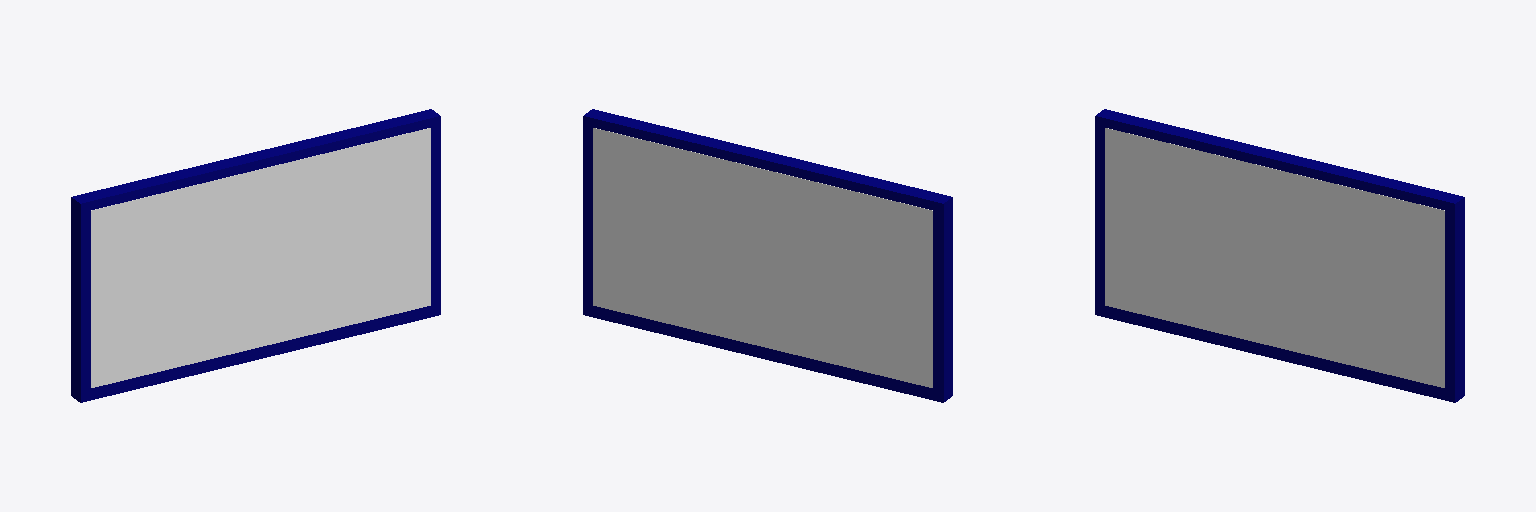
File: BA_Pad_02.obj
3 views of the same model, side by side, from view 1: azimuth 30°, elevation 25°; view 2: azimuth 150°, elevation 25°; view 3: azimuth 330°, elevation 25° (orthographic).
Parts seen in each view (by area): view 1: Box002, Box003; view 2: Box002, Box003; view 3: Box002, Box003.
Part boxes in pixels (x1,y1,x2,y2): Box002: (91, 128, 430, 387); Box003: (71, 109, 440, 402); Box002: (593, 128, 932, 387); Box003: (583, 109, 952, 402); Box002: (1105, 128, 1444, 387); Box003: (1095, 109, 1464, 402).
Bounding box in the file's own units: 106 × 56 × 5.